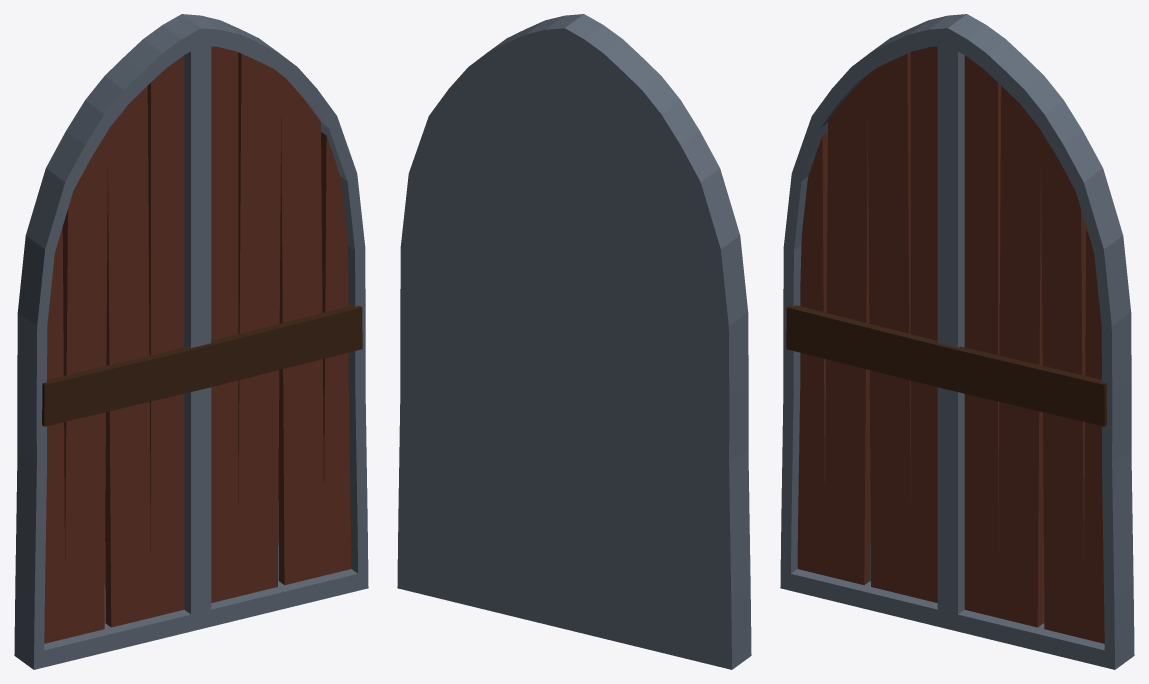
The model's file is Door.fbx.
The picture shows the model from 3 angles, left to right: view 1: azimuth 30°, elevation 25°; view 2: azimuth 150°, elevation 25°; view 3: azimuth 330°, elevation 25°; orthographic projection.
Parts seen in each view (by area): view 1: Cube.003; view 2: Cube.003; view 3: Cube.003.
Boxes of the visible parts, <box> form: Cube.003: <box>14,14,368,669</box>; Cube.003: <box>397,14,751,669</box>; Cube.003: <box>780,14,1134,669</box>.
Size of the model in its own units: 580 by 995 by 65.09.
